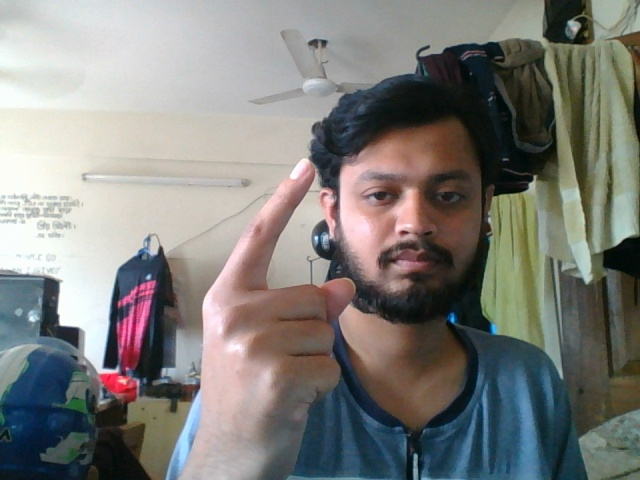u: (193, 153, 357, 470)
